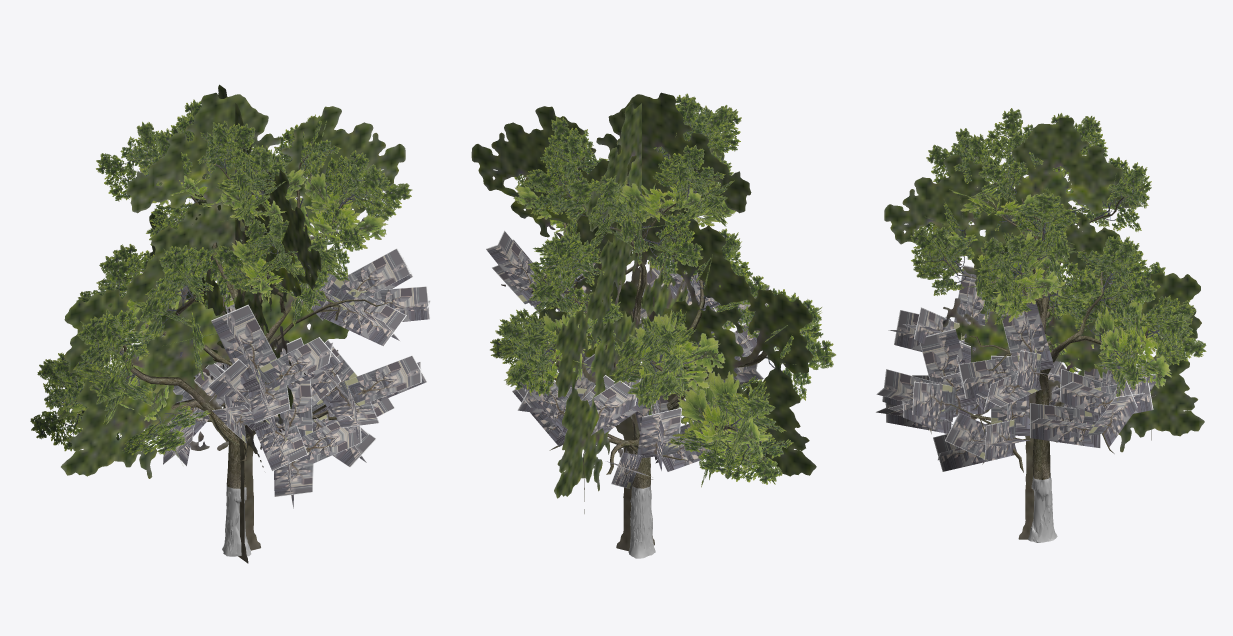
Rendered from Tree-Oak2A.fbx.
3 views of the same model, side by side, from view 1: azimuth 30°, elevation 25°; view 2: azimuth 150°, elevation 25°; view 3: azimuth 270°, elevation 25° (orthographic). The views are drawn at different scales.
Parts seen in each view (by area): view 1: Tree-Oak2A_LOD0, Billboard-Oak2A; view 2: Tree-Oak2A_LOD0, Billboard-Oak2A; view 3: Tree-Oak2A_LOD0, Billboard-Oak2A.
Boxes of the visible parts, x1,y1,x2,y2 form: Tree-Oak2A_LOD0: [30, 99, 430, 556]; Billboard-Oak2A: [61, 84, 405, 563]; Tree-Oak2A_LOD0: [486, 93, 835, 558]; Billboard-Oak2A: [471, 92, 816, 551]; Tree-Oak2A_LOD0: [876, 108, 1206, 542]; Billboard-Oak2A: [884, 117, 1204, 539].
Size of what is drawn, in the model's own units: 2650 by 3256 by 2302.
